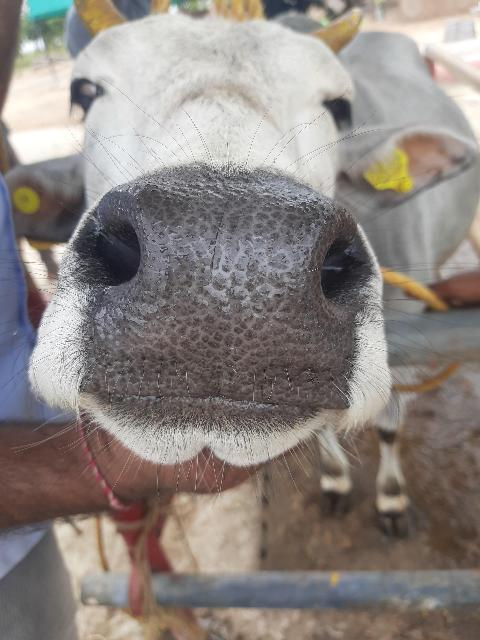Muzzle: (106, 182, 352, 408)
